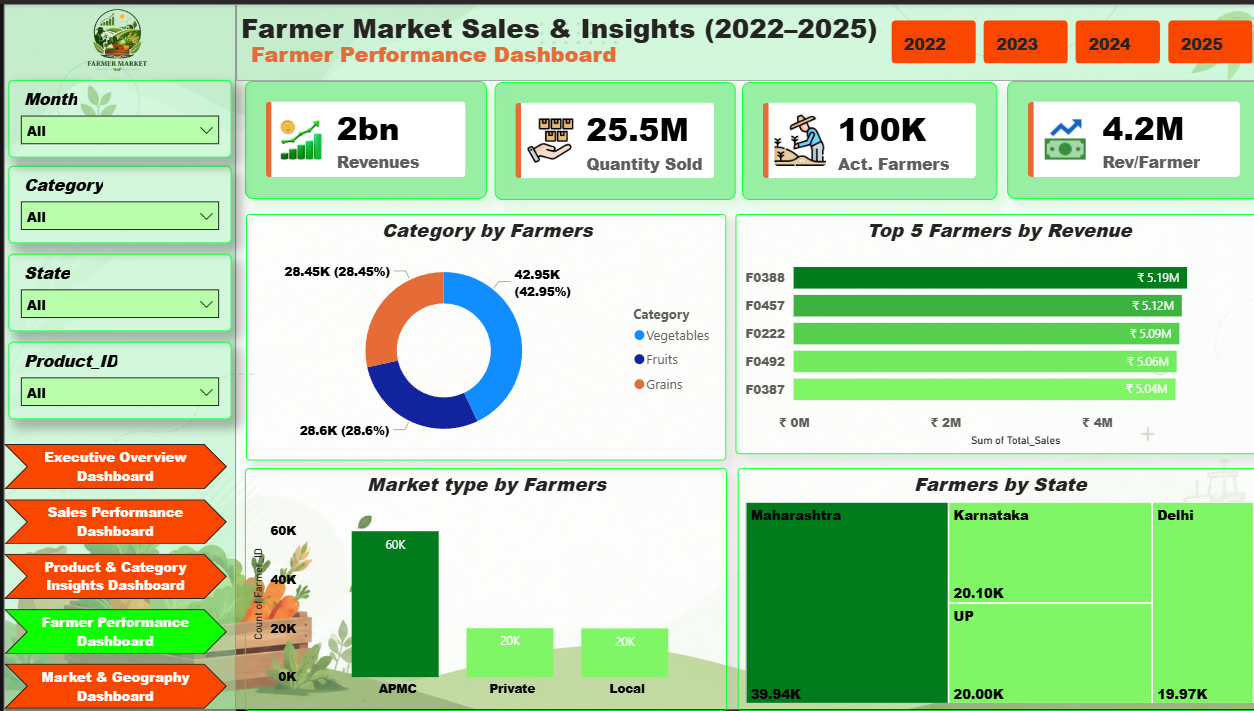

What the dashboard file says about the page in this screenshot:
{"tool":"powerbi","page":{"name":"Farmer Performance Dashboard","canvas":[1280,720],"ordinal":3},"visuals":[{"type":"shape","box":[0,0,236.3,720.2],"z":0},{"type":"shape","box":[236.3,0,1044,78.4],"z":1000},{"type":"textbox","box":[236.3,0,662,59.4],"z":2000},{"type":"textbox","box":[246.4,30.2,405.5,48.2],"z":3000},{"type":"image","box":[57.1,0,116.5,79.5],"z":4000},{"type":"cardVisual","fields":{"Data":["Sum(farmmarket_Dataset.Quantity_Sold)"]},"box":[499.6,79.5,245.3,119.8],"z":5000},{"type":"cardVisual","fields":{"Data":["CountNonNull(farmmarket_Dataset.Farmer_ID)"]},"box":[751.6,79.5,259.9,119.8],"z":6000},{"type":"cardVisual","fields":{"Data":["farmmarket_Dataset.Avg. Revenue Per Farmers"]},"box":[1021.6,78.4,258.8,119.9],"z":7000},{"type":"cardVisual","fields":{"Data":["Sum(farmmarket_Dataset.Total_Sales)"]},"box":[245.3,78.4,246.4,119.9],"z":8000},{"type":"slicer","fields":{"Values":["farmmarket_Dataset.Category"]},"box":[4.5,164.7,227.4,79.5],"z":9000},{"type":"slicer","fields":{"Values":["farmmarket_Dataset.Date.Variation.Date Hierarchy.Month"]},"box":[4.5,77.3,227.4,79.5],"z":10000},{"type":"slicer","fields":{"Values":["farmmarket_Dataset.State"]},"box":[4.5,254.3,227.4,79.5],"z":11000},{"type":"donutChart","title":"Category by Farmers","fields":{"Category":["farmmarket_Dataset.Category"],"Y":["CountNonNull(farmmarket_Dataset.Farmer_ID)"]},"box":[246.4,213.9,489.5,250.9],"z":12000},{"type":"columnChart","title":"Market type by Farmers","fields":{"Category":["farmmarket_Dataset.Market_Type"],"Y":["CountNonNull(farmmarket_Dataset.Farmer_ID)"]},"box":[245.3,472.7,490.6,247.5],"z":13000},{"type":"barChart","title":"Top 5 Farmers by Revenue","fields":{"Y":["Sum(farmmarket_Dataset.Total_Sales)"],"Category":["farmmarket_Dataset.Farmer_ID"]},"box":[744.9,213.9,535.4,244.2],"z":14000},{"type":"treemap","title":"Farmers by State ","fields":{"Group":["farmmarket_Dataset.State"],"Values":["CountNonNull(farmmarket_Dataset.Farmer_ID)"]},"box":[747.1,472.7,533.2,247.5],"z":15000},{"type":"advancedSlicerVisual","fields":{"Values":["farmmarket_Dataset.Date.Variation.Date Hierarchy.Year"]},"box":[898.3,11.2,379.7,54.9],"z":16000},{"type":"pageNavigator","box":[0,447.8,227.4,272.2],"z":17000},{"type":"slicer","fields":{"Values":["farmmarket_Dataset.Product_ID"]},"box":[4.5,343.9,227.4,79.5],"z":18000}]}

Visuals, with their boxes in screenshot pixels (x1, y1, x2, y2), scaled from the page's 1280x720 canvas onto the 1254x711 screenshot:
shape: box(0, 0, 232, 710)
shape: box(232, 0, 1253, 77)
textbox: box(232, 0, 880, 59)
textbox: box(241, 30, 639, 77)
image: box(56, 0, 170, 79)
cardVisual - Sum(farmmarket_Dataset.Quantity_Sold): box(489, 79, 730, 197)
cardVisual - CountNonNull(farmmarket_Dataset.Farmer_ID): box(736, 79, 991, 197)
cardVisual - farmmarket_Dataset.Avg. Revenue Per Farmers: box(1001, 77, 1253, 196)
cardVisual - Sum(farmmarket_Dataset.Total_Sales): box(240, 77, 482, 196)
slicer - farmmarket_Dataset.Category: box(4, 163, 227, 241)
slicer - farmmarket_Dataset.Date.Variation.Date Hierarchy.Month: box(4, 76, 227, 155)
slicer - farmmarket_Dataset.State: box(4, 251, 227, 330)
"Category by Farmers" donutChart: box(241, 211, 721, 459)
"Market type by Farmers" columnChart: box(240, 467, 721, 710)
"Top 5 Farmers by Revenue" barChart: box(730, 211, 1253, 452)
"Farmers by State " treemap: box(732, 467, 1253, 710)
advancedSlicerVisual - farmmarket_Dataset.Date.Variation.Date Hierarchy.Year: box(880, 11, 1252, 65)
pageNavigator: box(0, 442, 223, 710)
slicer - farmmarket_Dataset.Product_ID: box(4, 340, 227, 418)
